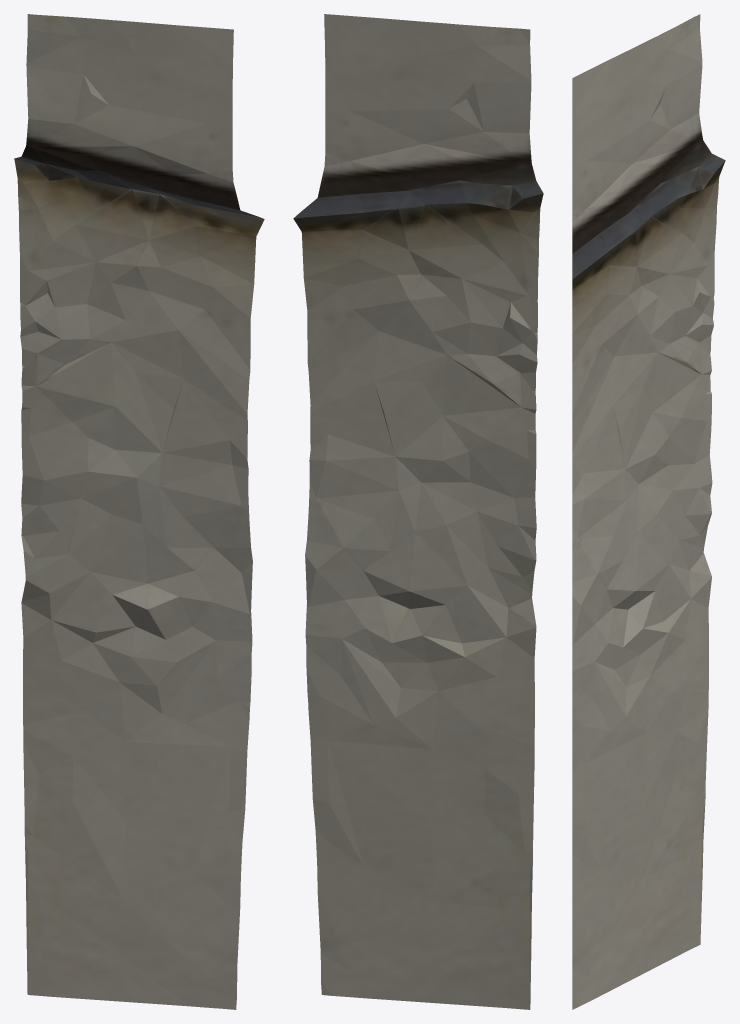
3 renders of one model, left to right at view 1: azimuth 30°, elevation 25°; view 2: azimuth 210°, elevation 25°; view 3: azimuth 270°, elevation 25°, orthographic. The views are drawn at different scales.
Bounding box in the file's own units: 0.3031 × 1.67 × 0.2502.
Materials: 1 (1 with a texture image).
